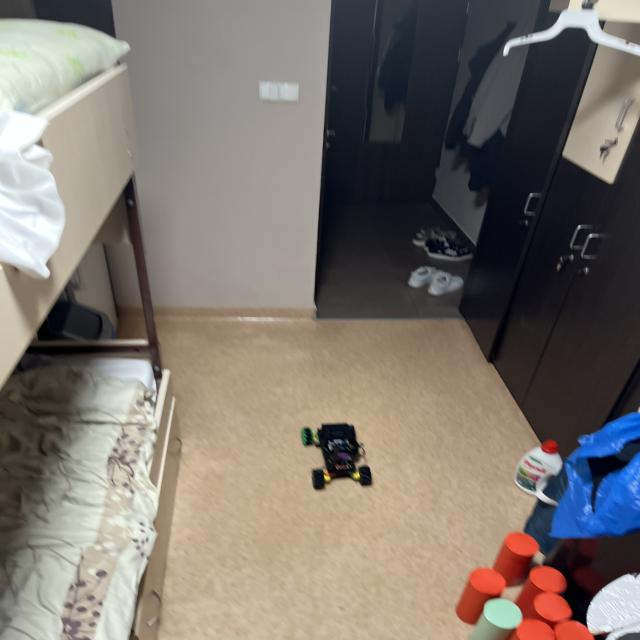robot: (301, 423, 372, 489)
